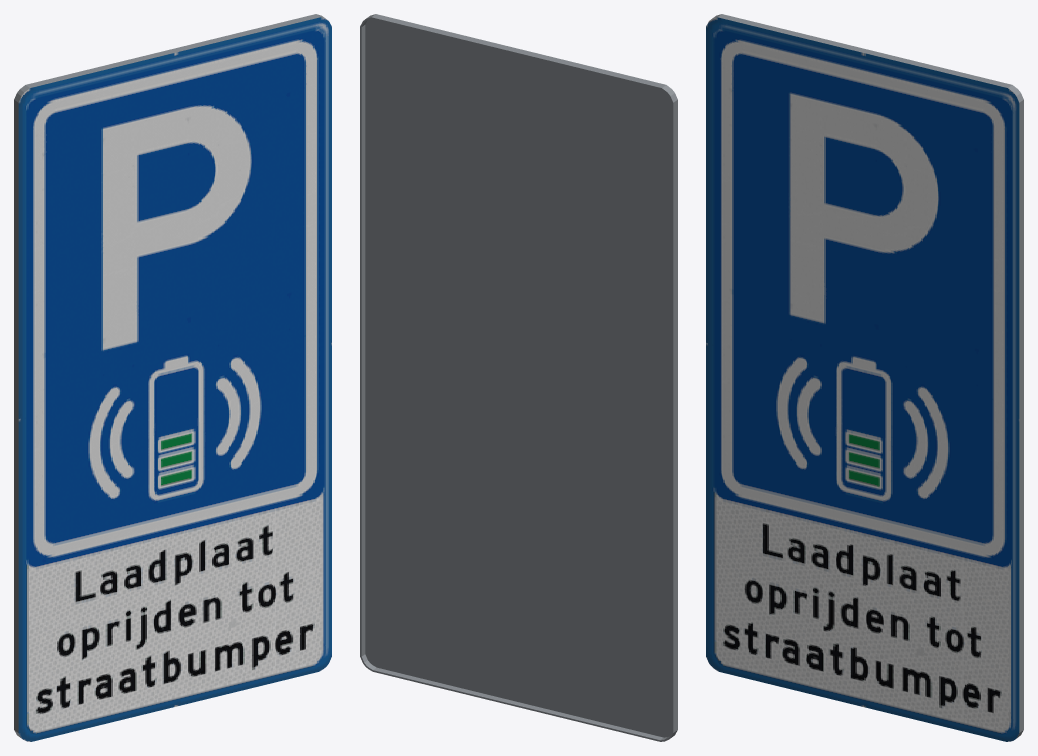
3 views of the same model, side by side, from view 1: azimuth 30°, elevation 25°; view 2: azimuth 150°, elevation 25°; view 3: azimuth 330°, elevation 25° (orthographic).
Visible parts, largest first — view 1: cat_ab31d0d96852c05e; view 2: cat_ab31d0d96852c05e; view 3: cat_ab31d0d96852c05e.
Part boxes in pixels (left/top/right/bottom): cat_ab31d0d96852c05e: left=14, top=14, right=331, bottom=741; cat_ab31d0d96852c05e: left=360, top=14, right=677, bottom=741; cat_ab31d0d96852c05e: left=706, top=14, right=1023, bottom=741.
Size of the model in its own units: 0.6 by 0.015 by 1.2.
Materials: 2 (1 with a texture image).
